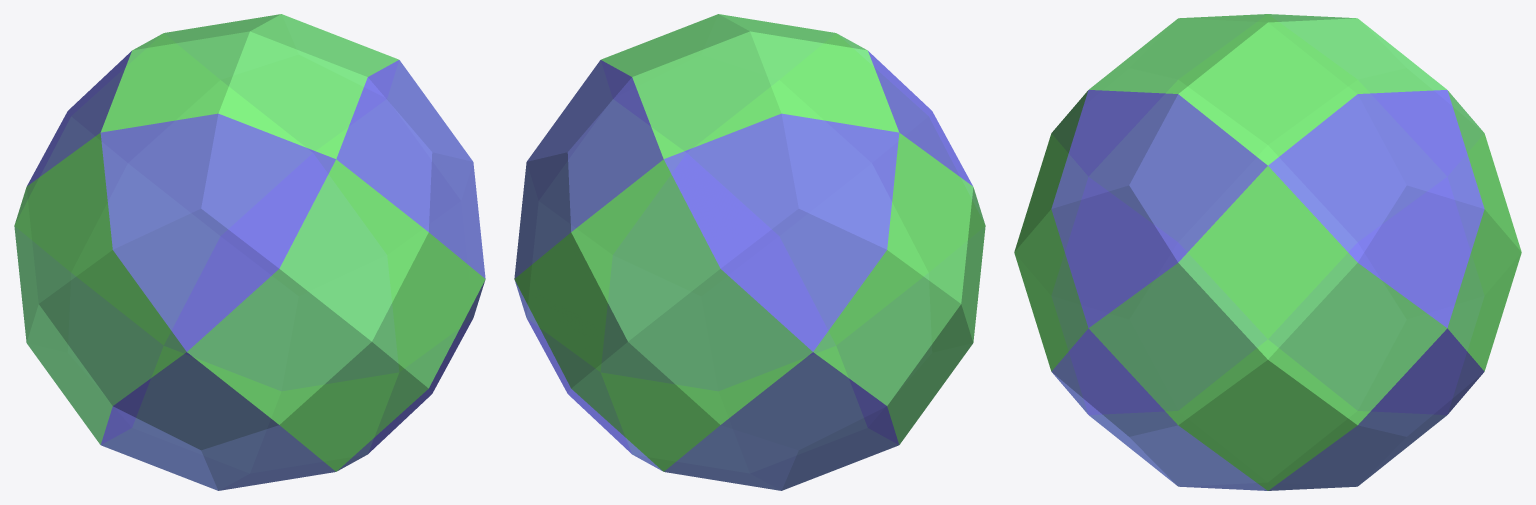
The model's file is JoinedRhombicuboctahedron.obj.
3 renders of one model, left to right at view 1: azimuth 30°, elevation 25°; view 2: azimuth 150°, elevation 25°; view 3: azimuth 270°, elevation 25°, orthographic. The views are drawn at different scales.
Size of the model in its own units: 2.83 by 2.83 by 2.83.
